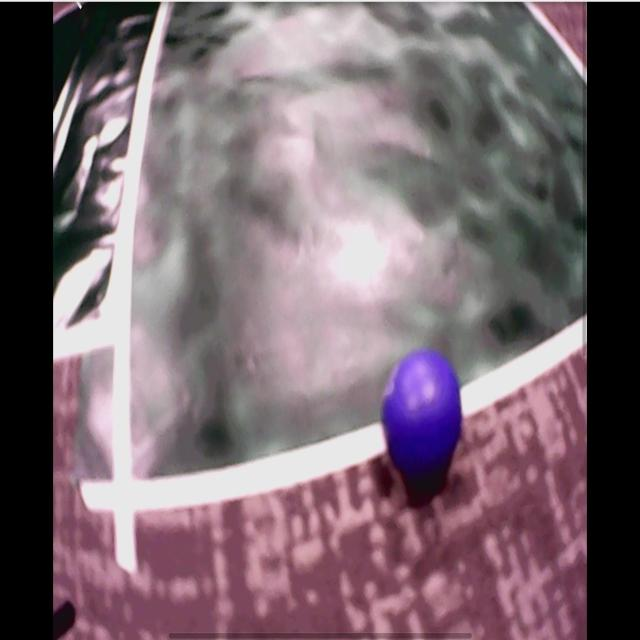ball: (384, 352, 463, 474)
